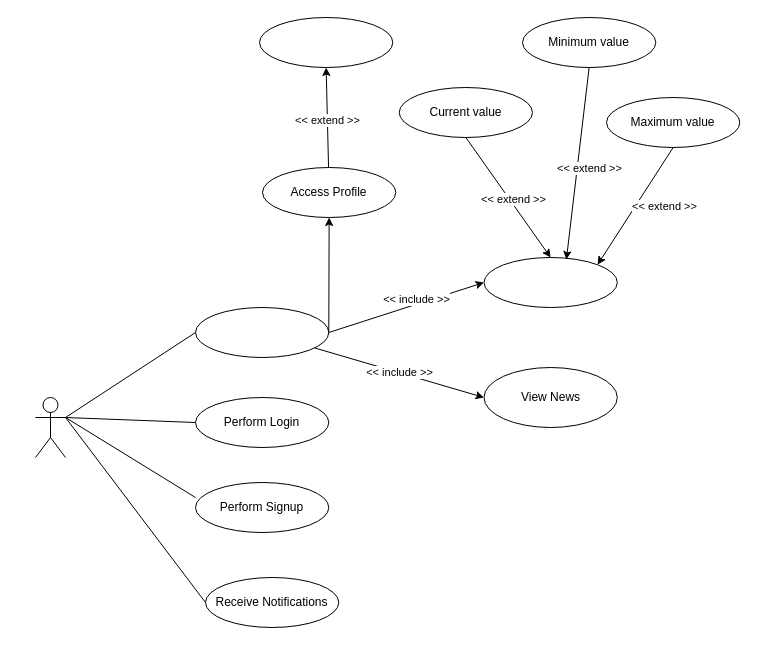
Image size: 758x645. Some labels were removed from this diagram. Here are the shapes that lost their labels. From the top down, the centre of each, then its label:
the point at 325,42: Change Profile Information
the point at 550,282: View Coins information
the point at 261,332: Access Public Area
the point at 50,427: Normal User
